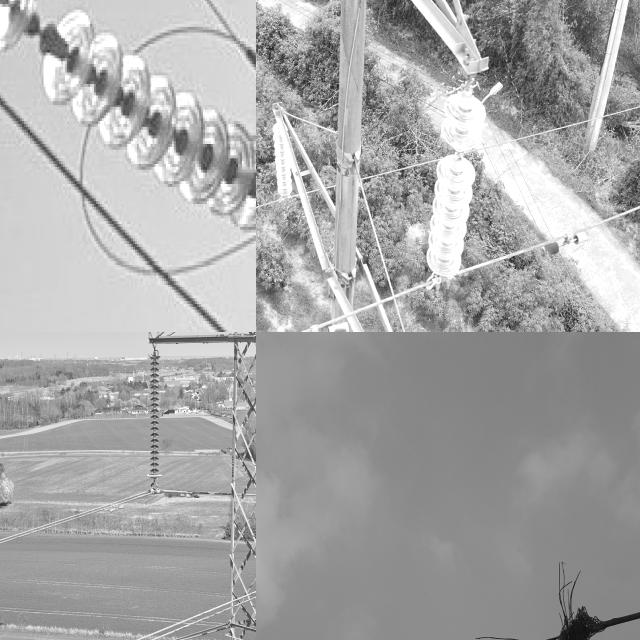杆塔: (144, 332, 256, 640)
正常电缆: (265, 193, 640, 332), (256, 95, 640, 221)
正常绝缘子: (0, 0, 256, 254), (416, 74, 488, 292), (146, 347, 166, 486), (268, 113, 294, 214)
电缆破损: (353, 545, 633, 640)
绝缘子破损: (34, 12, 62, 58), (450, 152, 467, 162)
